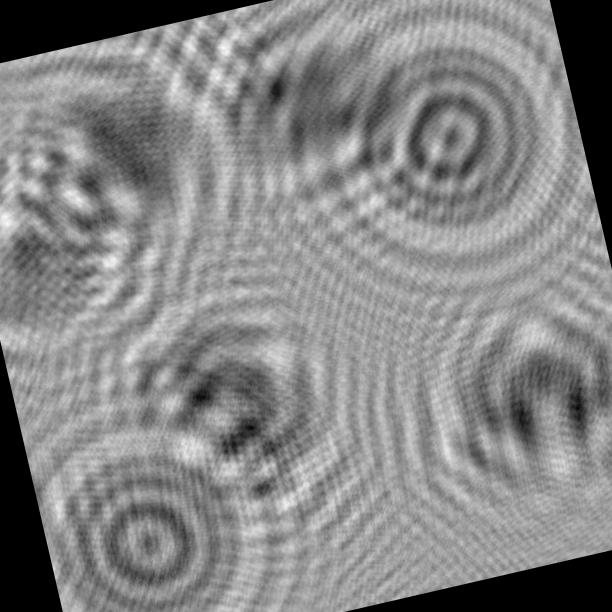K: (0, 16, 254, 304)
L: (0, 88, 199, 395)
M: (83, 258, 405, 580), (371, 259, 612, 575)
N: (139, 0, 435, 263)
O: (295, 0, 605, 299), (24, 393, 295, 612)
